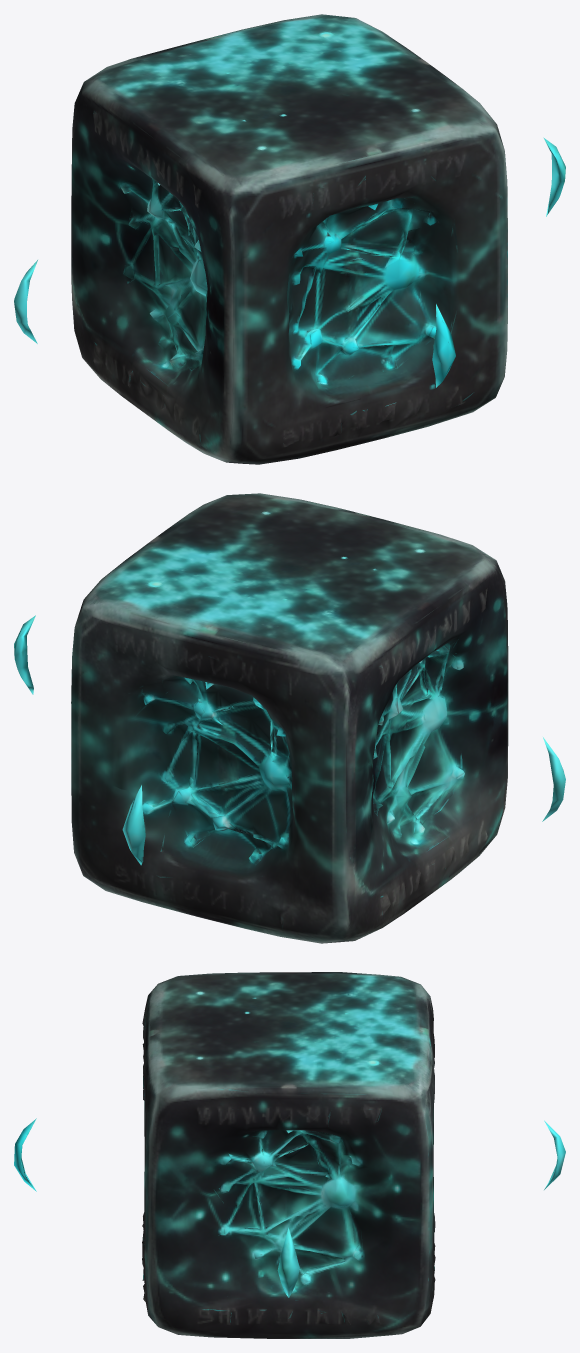
The model's file is crystal-ai-cube.glb.
3 renders of one model, top to bottom at view 1: azimuth 30°, elevation 25°; view 2: azimuth 150°, elevation 25°; view 3: azimuth 270°, elevation 25°, orthographic. The views are drawn at different scales.
Parts seen in each view (by area): view 1: Mesh1.0; view 2: Mesh1.0; view 3: Mesh1.0.
Part boxes in pixels (bbox=[...]): Mesh1.0: bbox=[14, 14, 565, 464]; Mesh1.0: bbox=[14, 493, 565, 943]; Mesh1.0: bbox=[14, 972, 565, 1338].
Size of the model in its own units: 1.84 by 1.07 by 1.84.
Materials: 1 (1 with a texture image).
